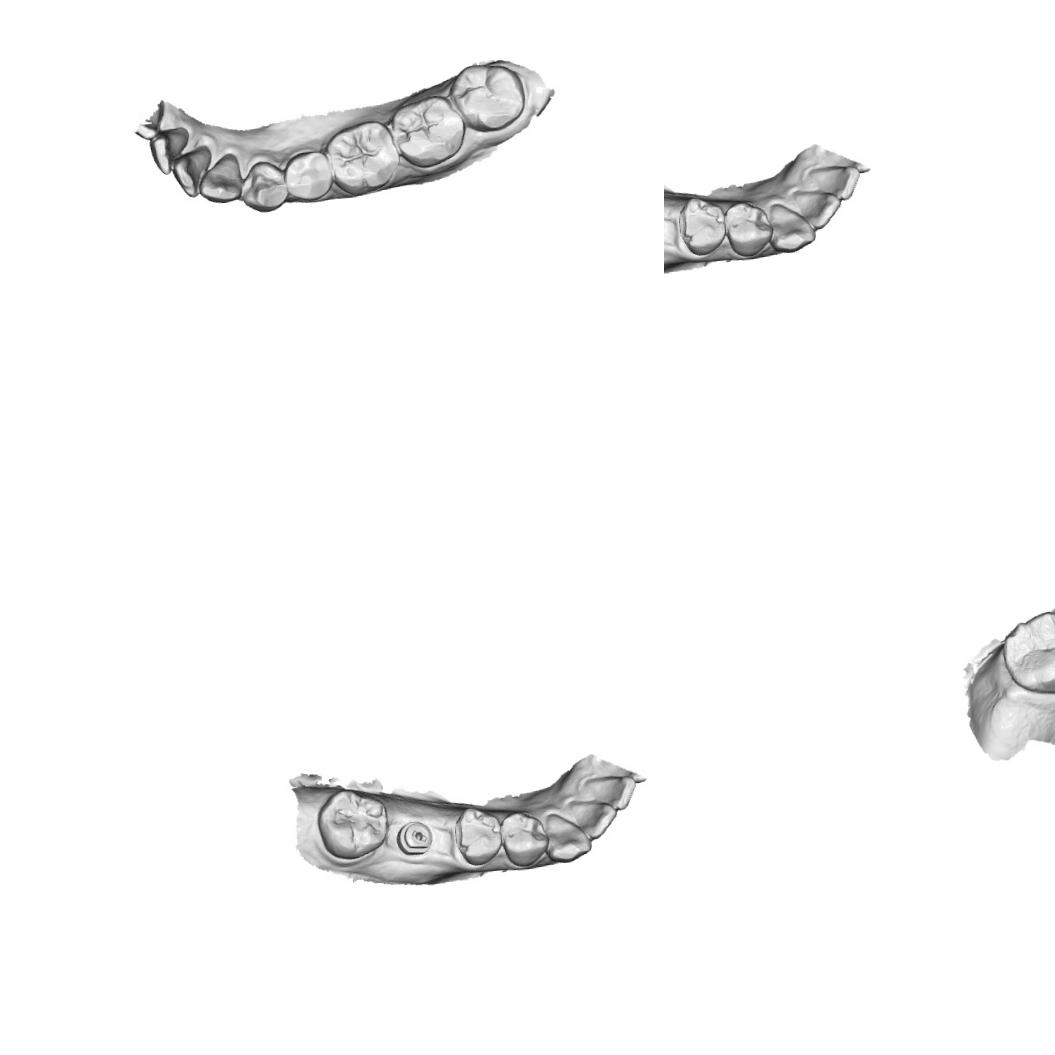canine: (764, 196, 818, 254), (540, 807, 594, 864), (195, 150, 244, 205)
implant_minus: (393, 818, 435, 856)
incisor: (564, 793, 620, 844), (788, 184, 844, 233), (170, 145, 215, 199), (146, 124, 192, 176), (805, 162, 862, 203), (582, 772, 638, 813)
molar: (322, 117, 402, 198), (388, 92, 469, 171), (446, 60, 528, 136), (312, 784, 390, 862), (996, 608, 1055, 697)
premolar: (676, 193, 728, 257), (452, 803, 504, 867), (721, 198, 775, 258), (497, 808, 551, 868), (235, 158, 290, 214), (281, 148, 335, 202)
